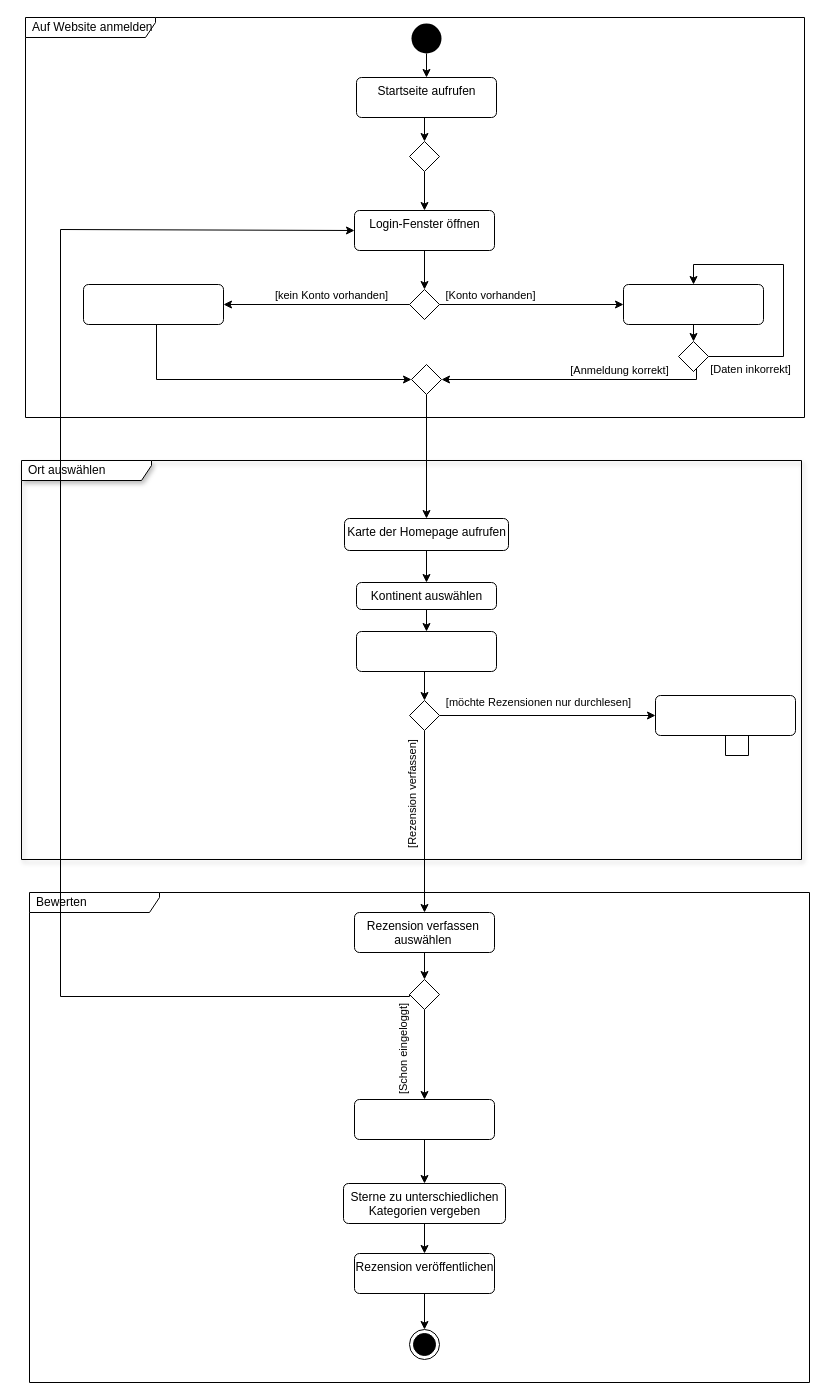
This 827x1400 diagram has some shape labels left out. Each missing label, with the centre of its shape:
"Kommentar verfassen und Erlebnis berichten" goes at point 424,1119.
"Nutzer meldet sich an" goes at point 693,304.
"Nutzer Registriert sich" goes at point 153,304.
"Ort ansehen und Kommentare durchlesen" goes at point 725,715.
"Spezifischen Ort auf der Karte wählen" goes at point 426,651.
